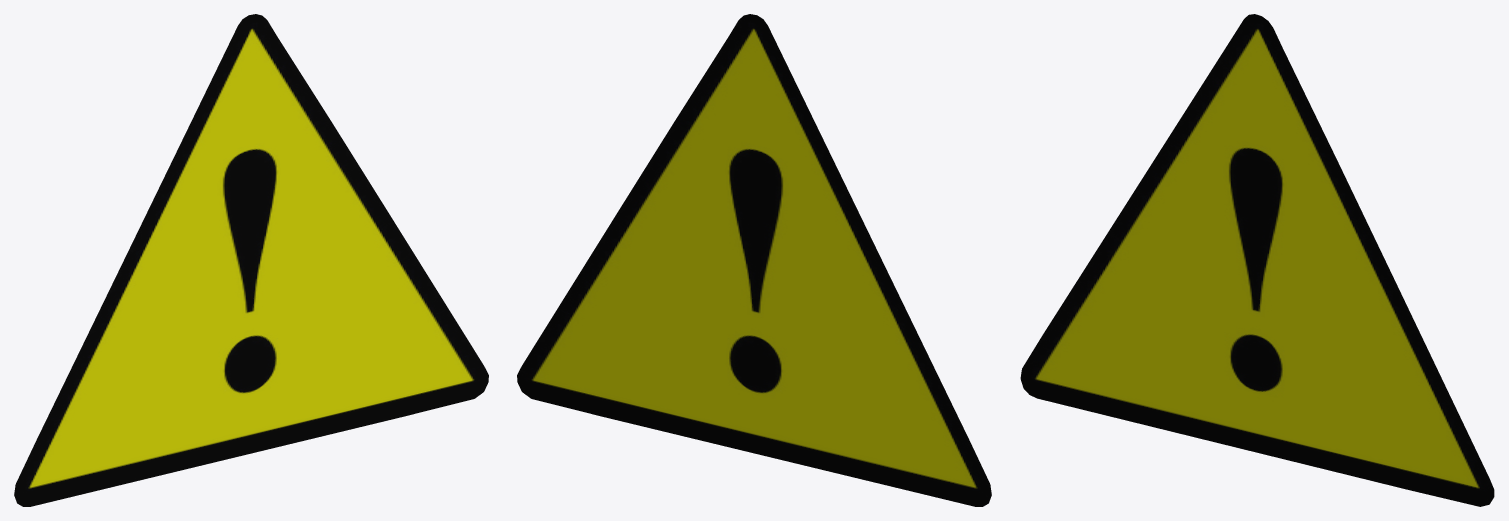
Rendered from exclamationmark.glb.
3 renders of one model, left to right at view 1: azimuth 30°, elevation 25°; view 2: azimuth 150°, elevation 25°; view 3: azimuth 330°, elevation 25°, orthographic.
Parts seen in each view (by area): view 1: Cube; view 2: Cube; view 3: Cube.
Boxes of the visible parts, x1=… form: Cube: x1=14, y1=14, x2=488, y2=506; Cube: x1=517, y1=14, x2=991, y2=506; Cube: x1=1020, y1=14, x2=1494, y2=506.
Size of the model in its own units: 313 by 276 by 4.5e-05.
Materials: 1 (1 with a texture image).
